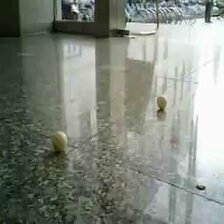w: (51, 130, 68, 152), (156, 95, 168, 109)
